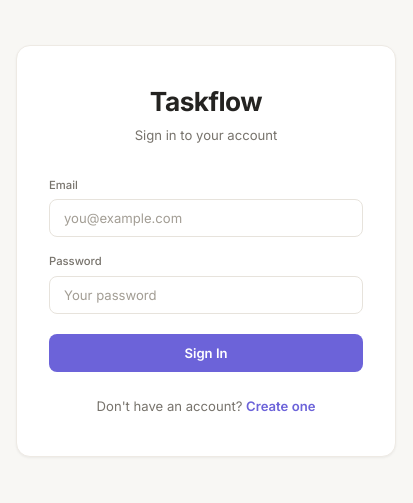
Test: LoginPage › shows validation error when submitting empty form
What coordinates should you click on to do the following:
click the button "Sign In"
I would click on:
 (206, 353)
Its box is [49,334,363,372].
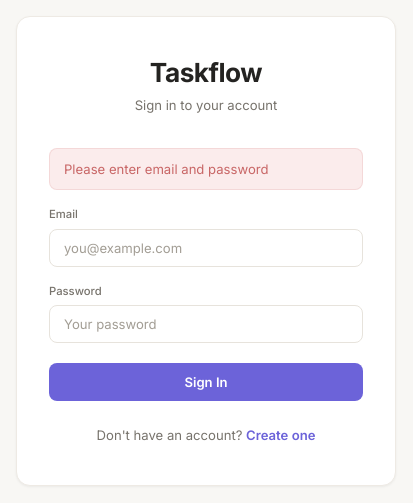
Check: the text "Please enter email and password" is shown, box [49,148,363,190]
